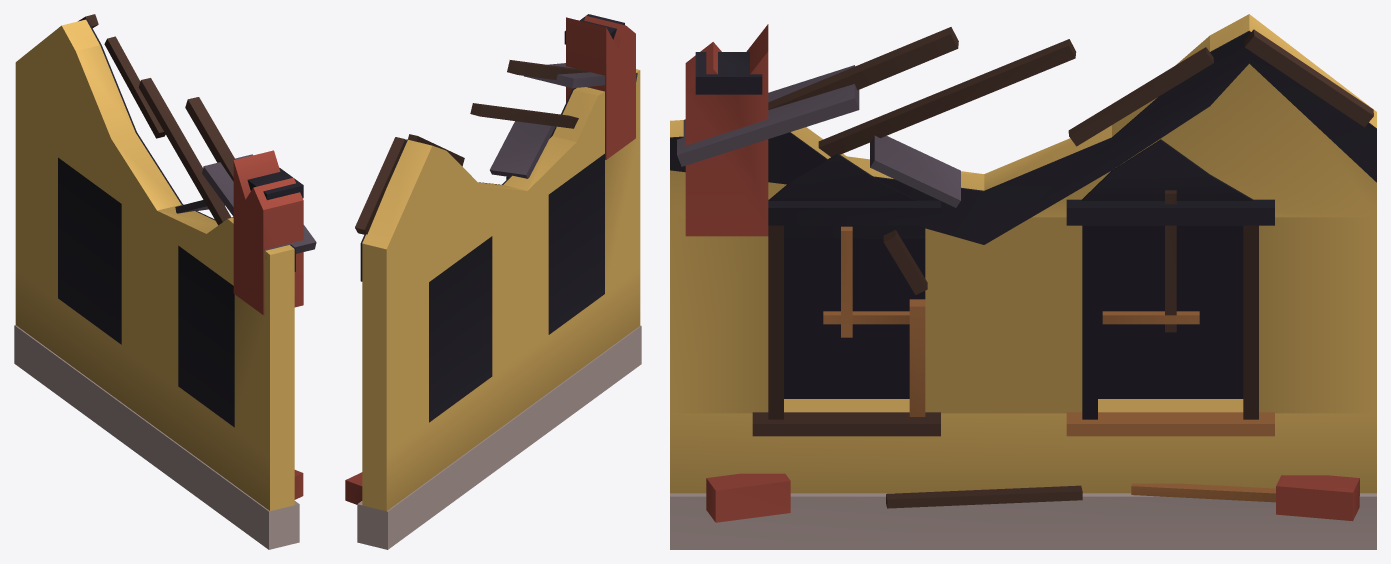
3 renders of one model, left to right at view 1: azimuth 30°, elevation 25°; view 2: azimuth 150°, elevation 25°; view 3: azimuth 270°, elevation 25°, orthographic. The views are drawn at different scales.
Parts seen in each view (by area): view 1: body_pal_mustardLight, body_pal_uiDark, body_pal_sidewalk, body_pal_brick, roof_pal_leather, roof_pal_asphalt; view 2: body_pal_mustardLight, body_pal_uiDark, body_pal_sidewalk, body_pal_brick, roof_pal_leather, roof_pal_asphalt; view 3: body_pal_mustardLight, body_pal_uiDark, body_pal_sidewalk, body_pal_brick, body_pal_leather, roof_pal_leather, body_pal_woodWarm, roof_pal_asphalt.
Part boxes in pixels (x1,y1,x2,y2): body_pal_mustardLight: (15, 19, 294, 511); body_pal_uiDark: (58, 19, 303, 427); body_pal_sidewalk: (14, 325, 299, 549); body_pal_brick: (233, 150, 303, 499); roof_pal_leather: (78, 14, 235, 225); roof_pal_asphalt: (175, 154, 316, 253); body_pal_mustardLight: (362, 69, 640, 511); body_pal_uiDark: (360, 14, 624, 422); body_pal_sidewalk: (357, 325, 641, 549); body_pal_brick: (345, 16, 635, 504); roof_pal_leather: (355, 60, 590, 234); roof_pal_asphalt: (490, 63, 637, 178); body_pal_mustardLight: (670, 14, 1376, 493); body_pal_uiDark: (670, 30, 1376, 419); body_pal_sidewalk: (670, 493, 1376, 549); body_pal_brick: (685, 24, 1359, 522); body_pal_leather: (752, 190, 1258, 508); roof_pal_leather: (768, 27, 1373, 156); body_pal_woodWarm: (823, 226, 1275, 502); roof_pal_asphalt: (677, 65, 960, 207).
Bounding box in the file's own units: 0.4179 × 2.91 × 3.6.
